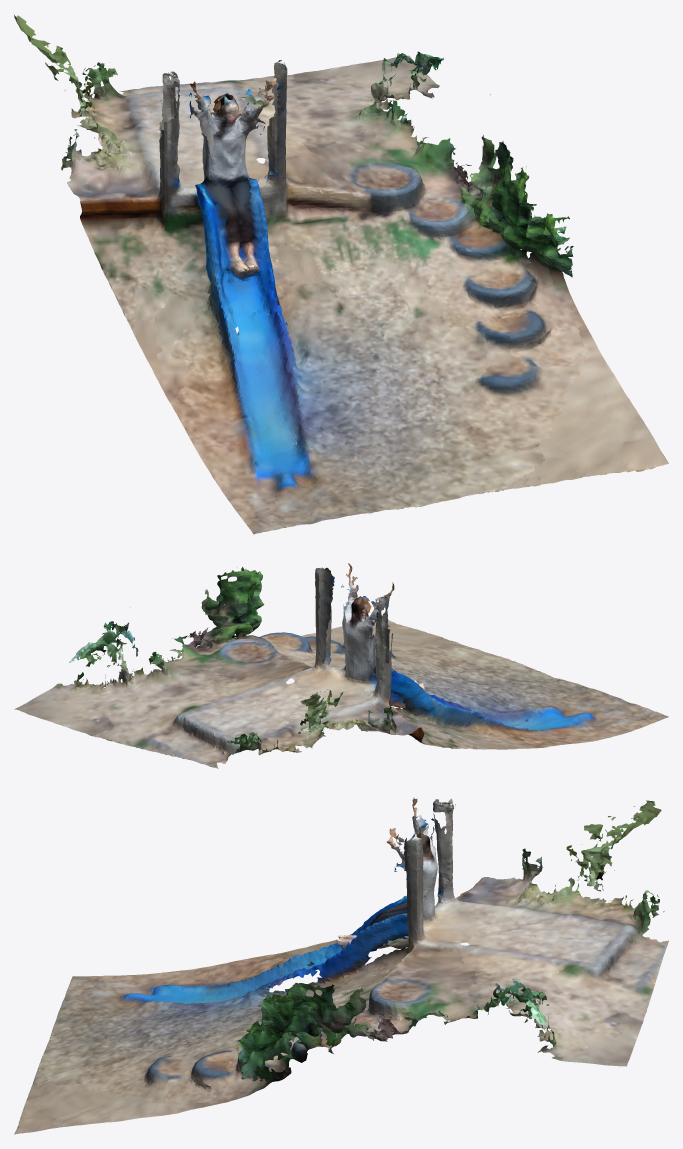
3 views of the same model, one above another, from view 1: azimuth 30°, elevation 25°; view 2: azimuth 150°, elevation 25°; view 3: azimuth 270°, elevation 25° (orthographic). The views are drawn at different scales.
Bounding box in the file's own units: 0.6594 × 0.3647 × 0.91.
1 material, 1 textured.
